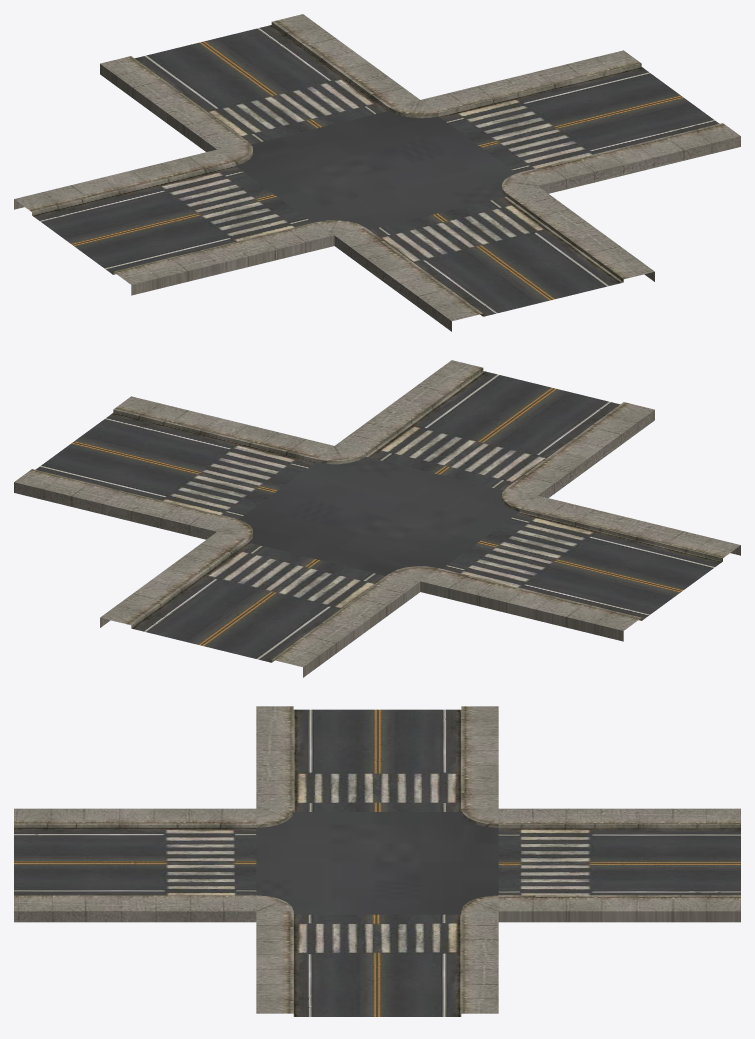
The model's file is Street_Intersection.fbx.
3 renders of one model, top to bottom at view 1: azimuth 30°, elevation 25°; view 2: azimuth 150°, elevation 25°; view 3: azimuth 270°, elevation 25°, orthographic. The views are drawn at different scales.
Visible parts, largest first — view 1: Cube.101; view 2: Cube.101; view 3: Cube.101.
Boxes of the visible parts, <box> form: Cube.101: <box>14,14,740,331</box>; Cube.101: <box>14,360,740,677</box>; Cube.101: <box>14,706,740,1016</box>.
Bounding box in the file's own units: 1644 × 27.39 × 1644.
